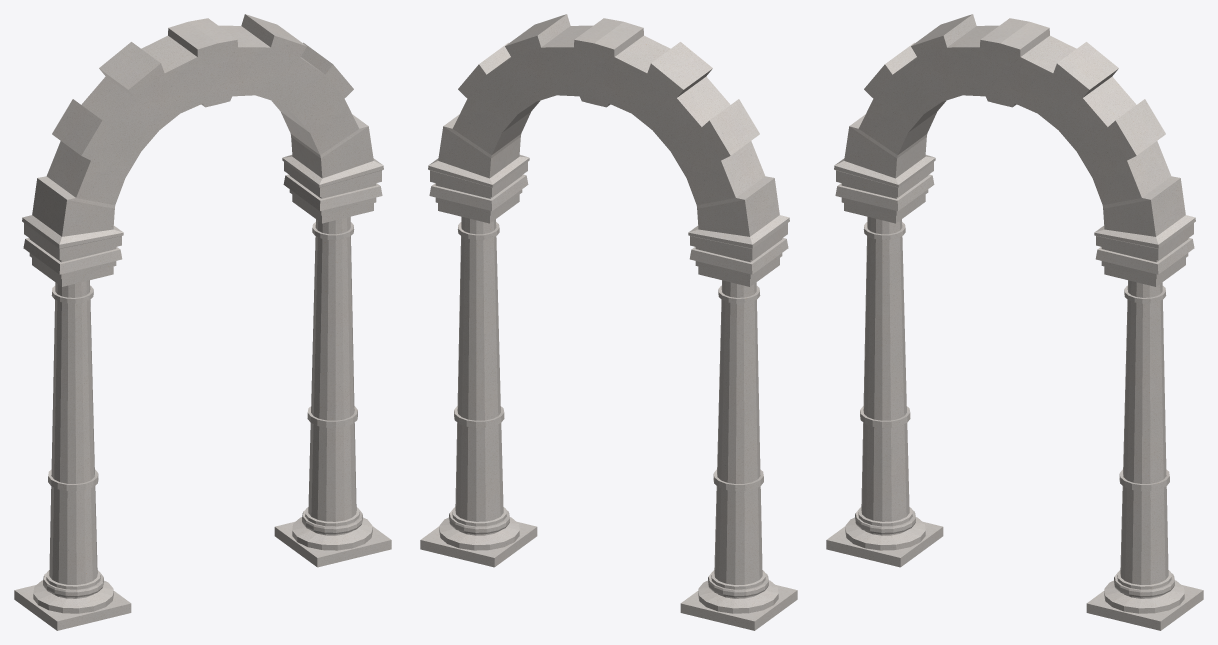
File: archway.fbx
3 views of the same model, side by side, from view 1: azimuth 30°, elevation 25°; view 2: azimuth 150°, elevation 25°; view 3: azimuth 330°, elevation 25° (orthographic).
Parts seen in each view (by area): view 1: Archway; view 2: Archway; view 3: Archway.
Boxes of the visible parts, x1,y1,x2,y2 form: Archway: (14, 14, 391, 630); Archway: (420, 14, 797, 630); Archway: (826, 14, 1203, 630).
Bounding box in the file's own units: 629 × 975 × 139.
